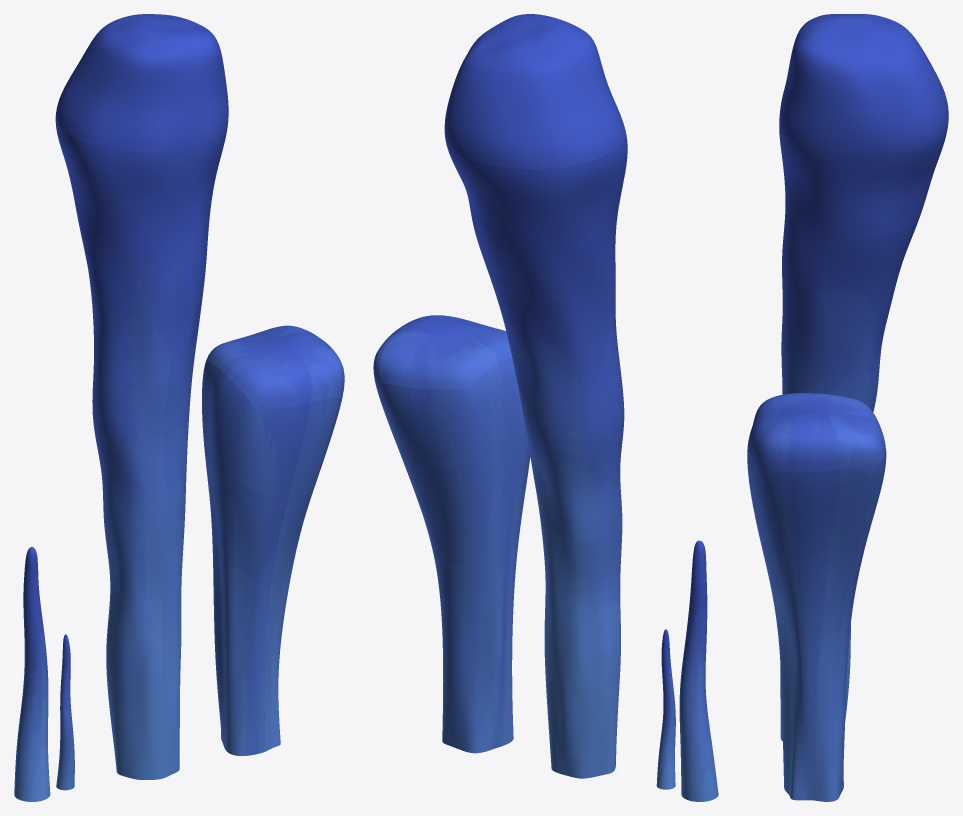
The model's file is mountain_2.fbx.
3 renders of one model, left to right at view 1: azimuth 30°, elevation 25°; view 2: azimuth 150°, elevation 25°; view 3: azimuth 270°, elevation 25°, orthographic. The views are drawn at different scales.
Parts seen in each view (by area): view 1: Cube, Cube.001, Cube.002, Cube.003; view 2: Cube, Cube.001, Cube.002, Cube.003; view 3: Cube, Cube.001.
Boxes of the visible parts, x1=… form: Cube: x1=55, y1=14, x2=228, y2=779; Cube.001: x1=202, y1=325, x2=344, y2=755; Cube.002: x1=14, y1=547, x2=50, y2=801; Cube.003: x1=56, y1=634, x2=74, y2=790; Cube: x1=444, y1=14, x2=627, y2=778; Cube.001: x1=373, y1=315, x2=530, y2=753; Cube.002: x1=679, y1=540, x2=718, y2=801; Cube.003: x1=656, y1=629, x2=675, y2=789; Cube: x1=779, y1=14, x2=948, y2=741; Cube.001: x1=747, y1=393, x2=886, y2=801.
Bounding box in the file's own units: 2921 × 6412 × 1606.
